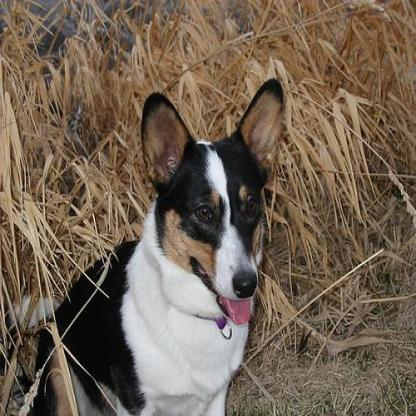Cardigan: (30, 72, 285, 412)
